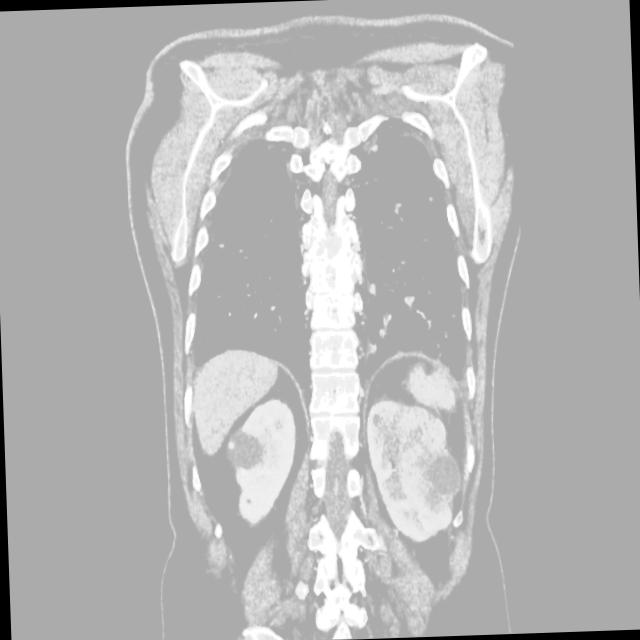TUMOR: (114, 307, 567, 574)
